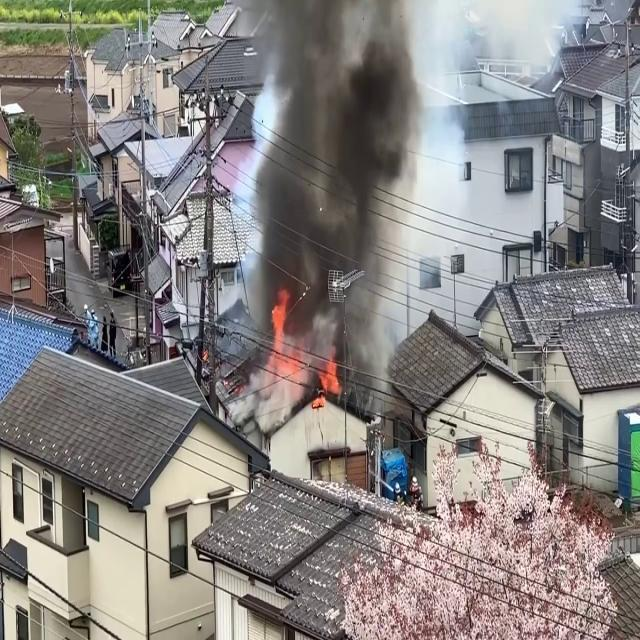Fire: (266, 288, 296, 378), (318, 346, 343, 402)
Smoke: (233, 0, 434, 392)
